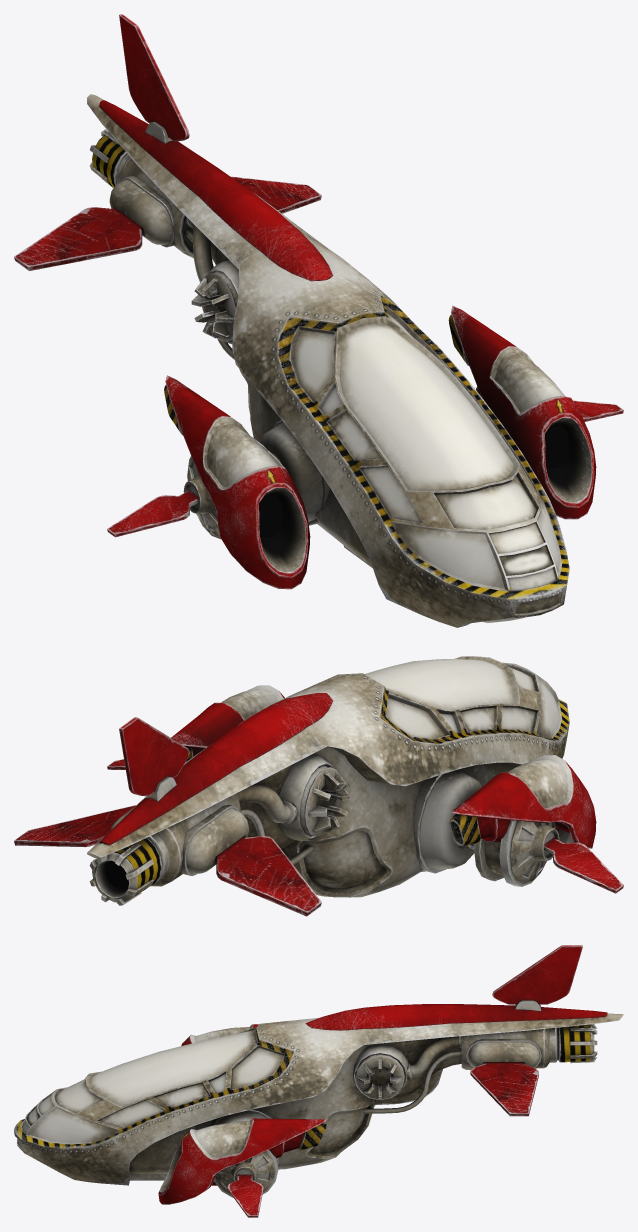
Rendered from spaceship5.obj.
3 renders of one model, top to bottom at view 1: azimuth 30°, elevation 25°; view 2: azimuth 150°, elevation 25°; view 3: azimuth 270°, elevation 25°, orthographic. The views are drawn at different scales.
Visible parts, largest first — view 1: Ship_Type_3_Sphere.005; view 2: Ship_Type_3_Sphere.005; view 3: Ship_Type_3_Sphere.005.
Boxes of the visible parts, x1,y1,x2,y2 form: Ship_Type_3_Sphere.005: (14,14,623,627); Ship_Type_3_Sphere.005: (14,656,623,916); Ship_Type_3_Sphere.005: (14,945,623,1217).
Size of the model in its own units: 1.63 by 1 by 2.51.
Materials: 1 (1 with a texture image).
